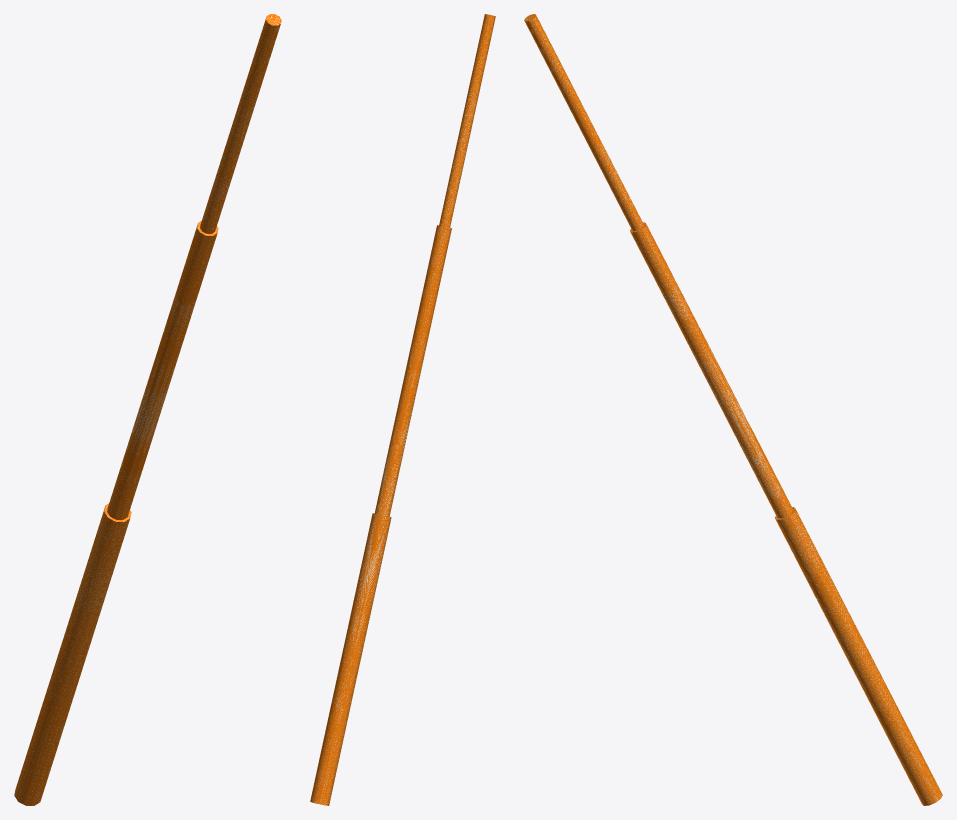
Rendered from original-13.obj.
3 renders of one model, left to right at view 1: azimuth 30°, elevation 25°; view 2: azimuth 150°, elevation 25°; view 3: azimuth 270°, elevation 25°, orthographic. The views are drawn at different scales.
Parts seen in each view (by area): view 1: Komponenta_1_1/Komponenta_1/mesh8/mesh8-geometry#mesh8-geometry; view 2: Komponenta_1_1/Komponenta_1/mesh8/mesh8-geometry#mesh8-geometry; view 3: Komponenta_1_1/Komponenta_1/mesh8/mesh8-geometry#mesh8-geometry.
Part boxes in pixels (x1,y1,x2,y2): Komponenta_1_1/Komponenta_1/mesh8/mesh8-geometry#mesh8-geometry: [14, 14, 281, 805]; Komponenta_1_1/Komponenta_1/mesh8/mesh8-geometry#mesh8-geometry: [310, 14, 495, 805]; Komponenta_1_1/Komponenta_1/mesh8/mesh8-geometry#mesh8-geometry: [524, 14, 942, 805].
Bounding box in the file's own units: 0.0264 × 1.04 × 0.5009.
